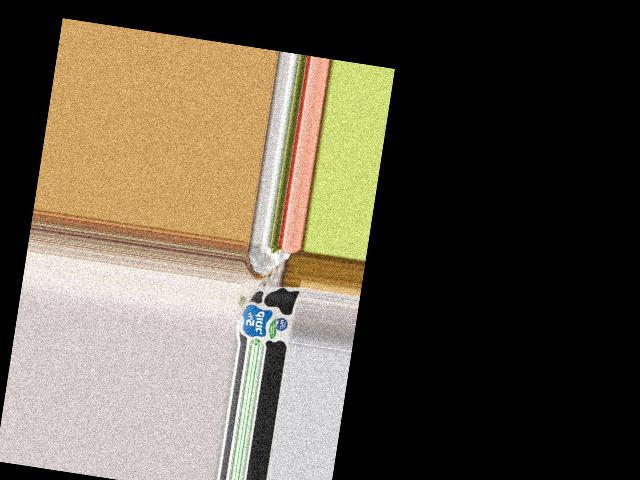cotage: (235, 282, 299, 350)
